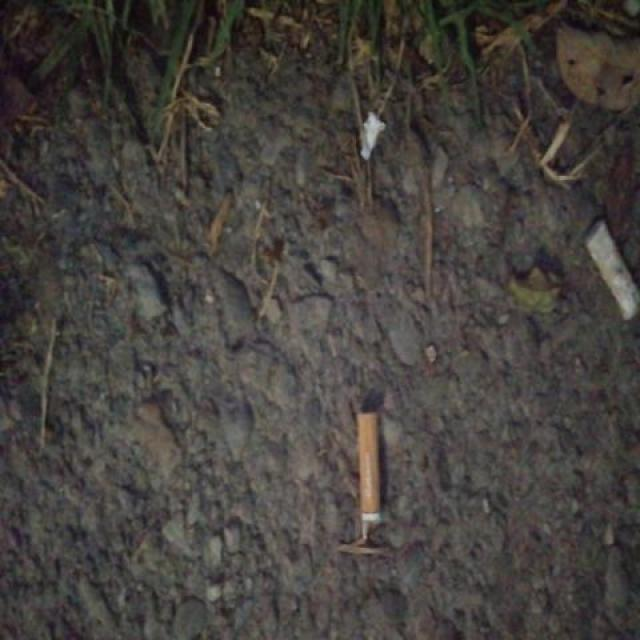non-organic waste: (580, 213, 640, 320), (356, 407, 388, 544)
